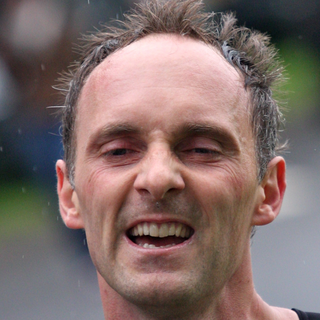eye: (179, 140, 228, 163), (96, 140, 141, 164)
